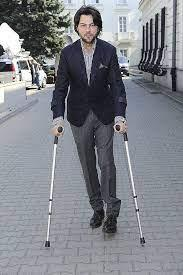crutches: (45, 6, 146, 247)
